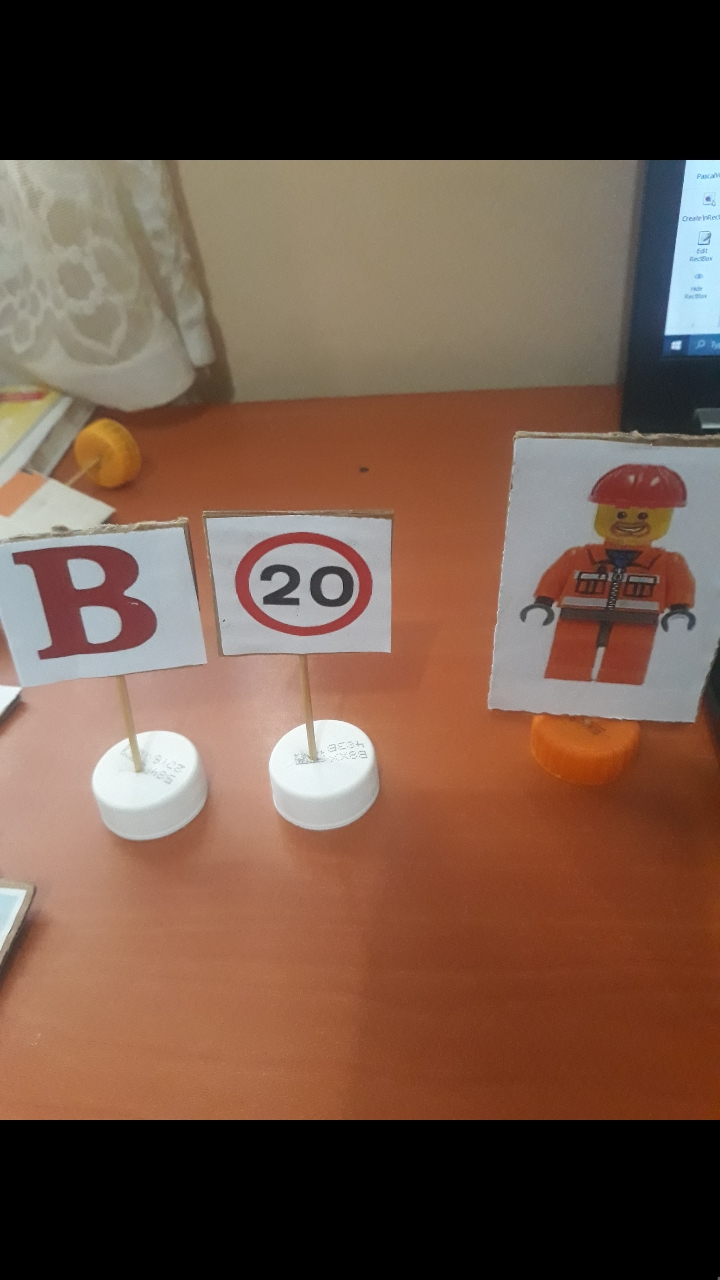20 kph: (222, 527, 387, 651)
pedestrian: (524, 441, 704, 712)
zone B: (6, 541, 177, 668)
